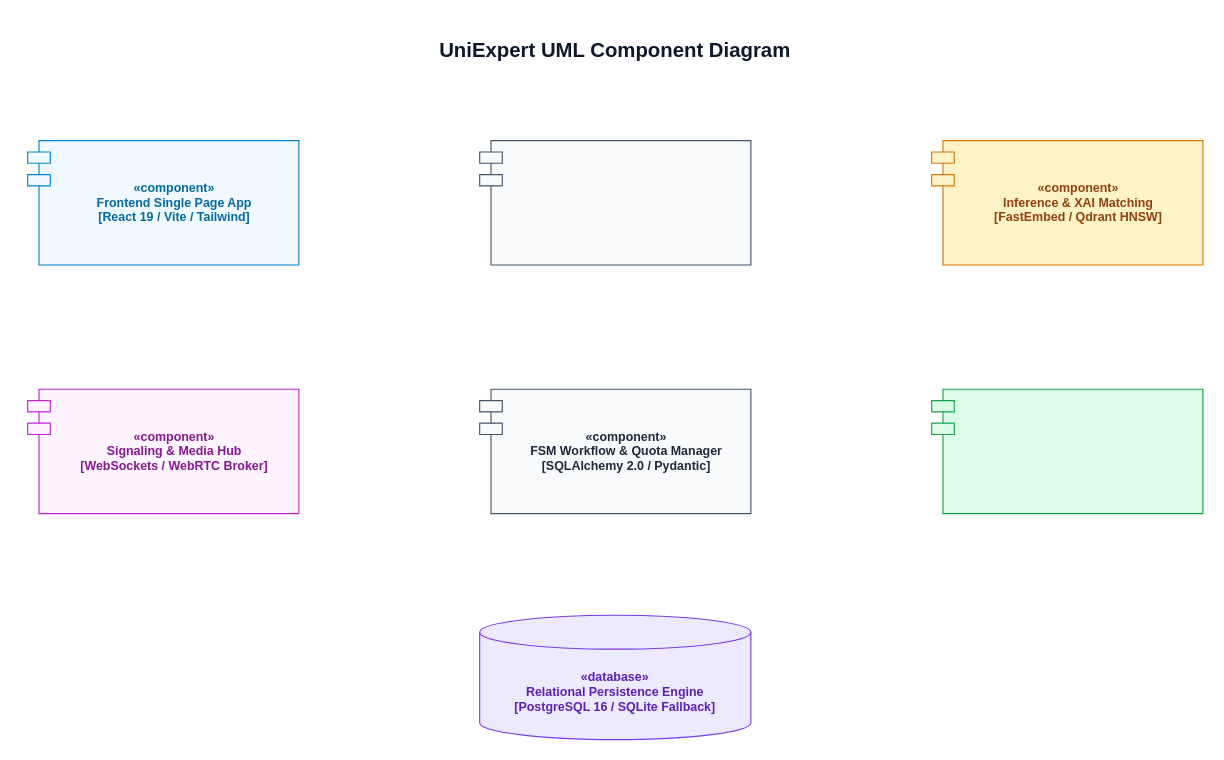
This 1224x760 diagram has some shape labels left out. The centre of each missing label's shape, as x and y in pixels:
«component» API Gateway & Route Guards [FastAPI / JWT Middleware]: [615,202]
«component» Merkle Audit & BAETE Compiler [SHA-256 Ledger / ReportLab]: [1067,451]
